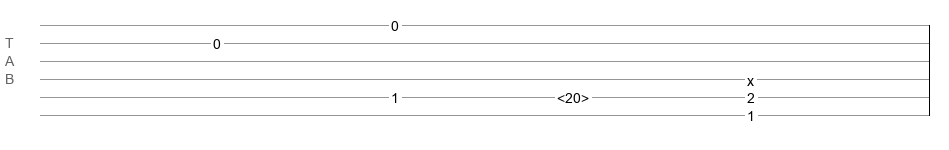0: (213, 36, 221, 46), (391, 18, 399, 28)
1: (391, 90, 399, 100), (747, 108, 755, 118)
2: (747, 90, 755, 100)
harmonic: (557, 90, 589, 100)
x: (747, 73, 754, 81)
